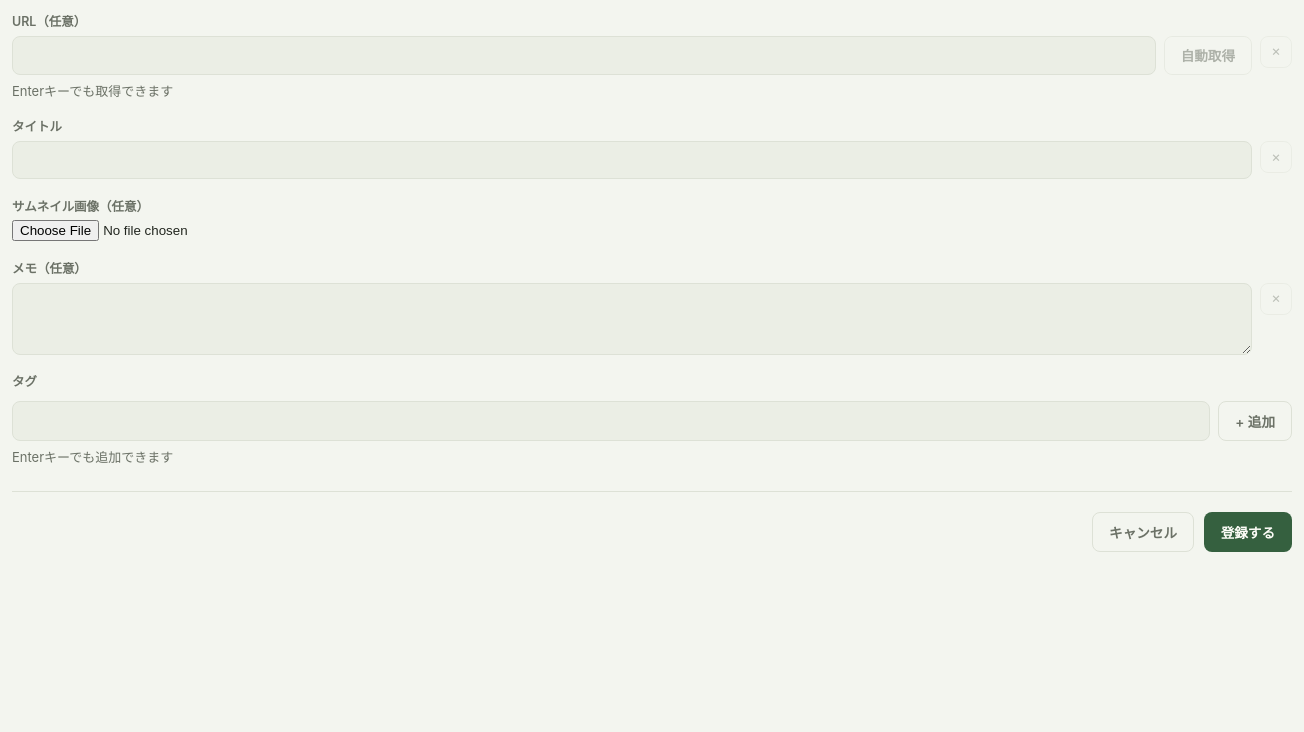
Scenario: RecipeRegisterForm › タイトル削除ボタンでタイトルだけ空にできる
Expected: the button named "タイトルを削除" is disabled, [1260,141,1292,173]
In the field labelled "タイトル": (632, 160) [12,141,1252,179], type "肉じゃが"
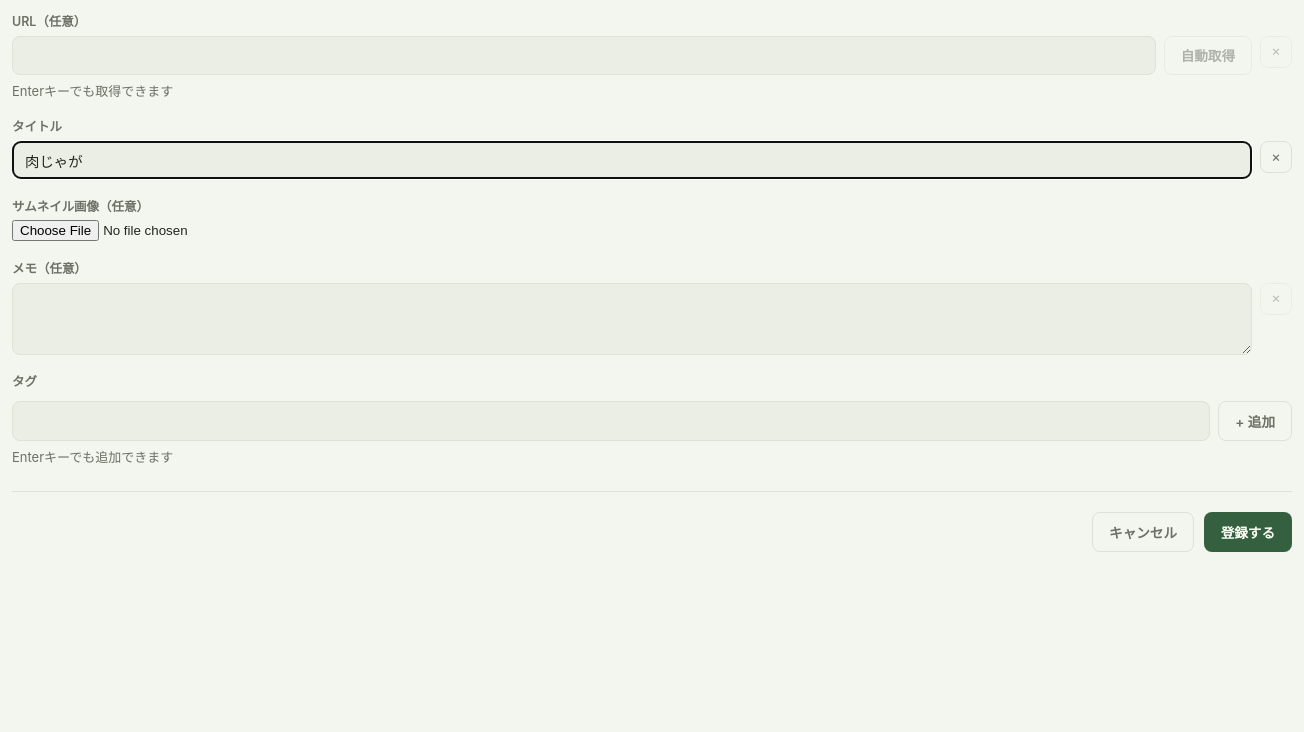
In the text box labelled "メモ（任意）": (632, 318) [12,282,1252,354], type "美味しい"
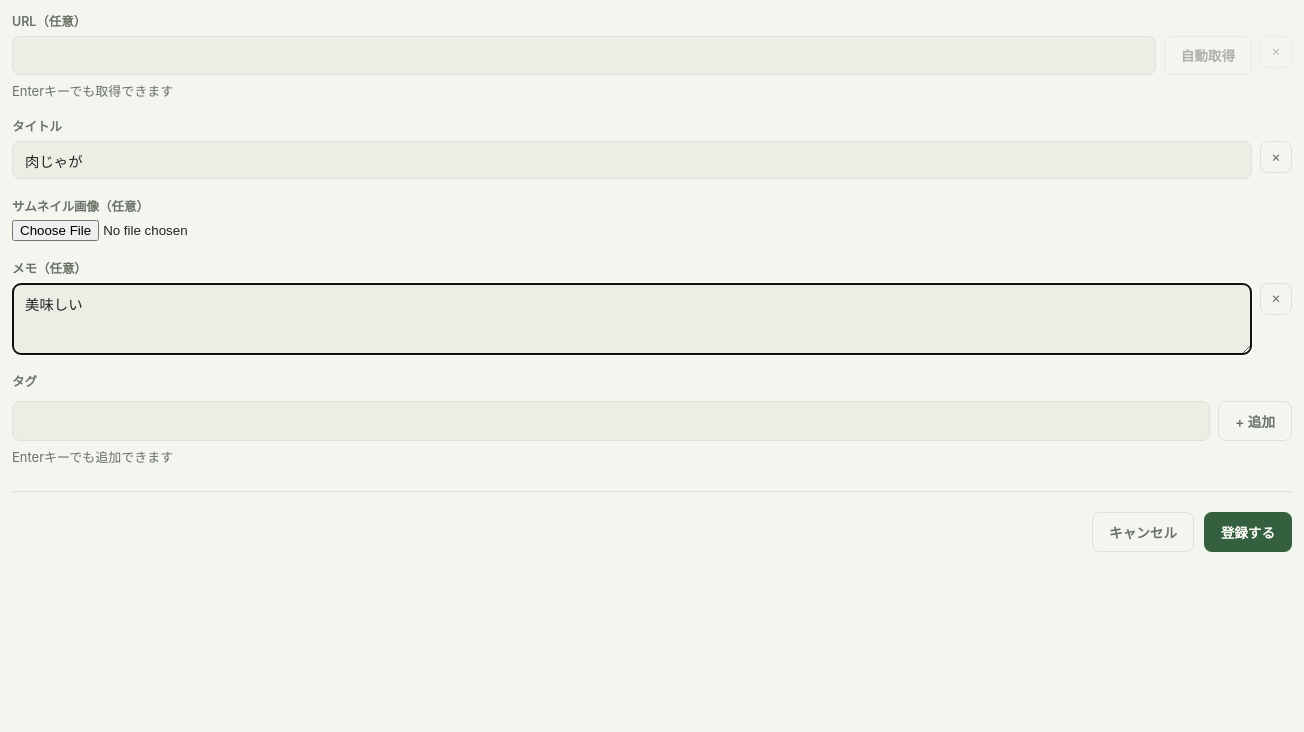
Click the button named "タイトルを削除": (1276, 157) [1260,141,1292,173]
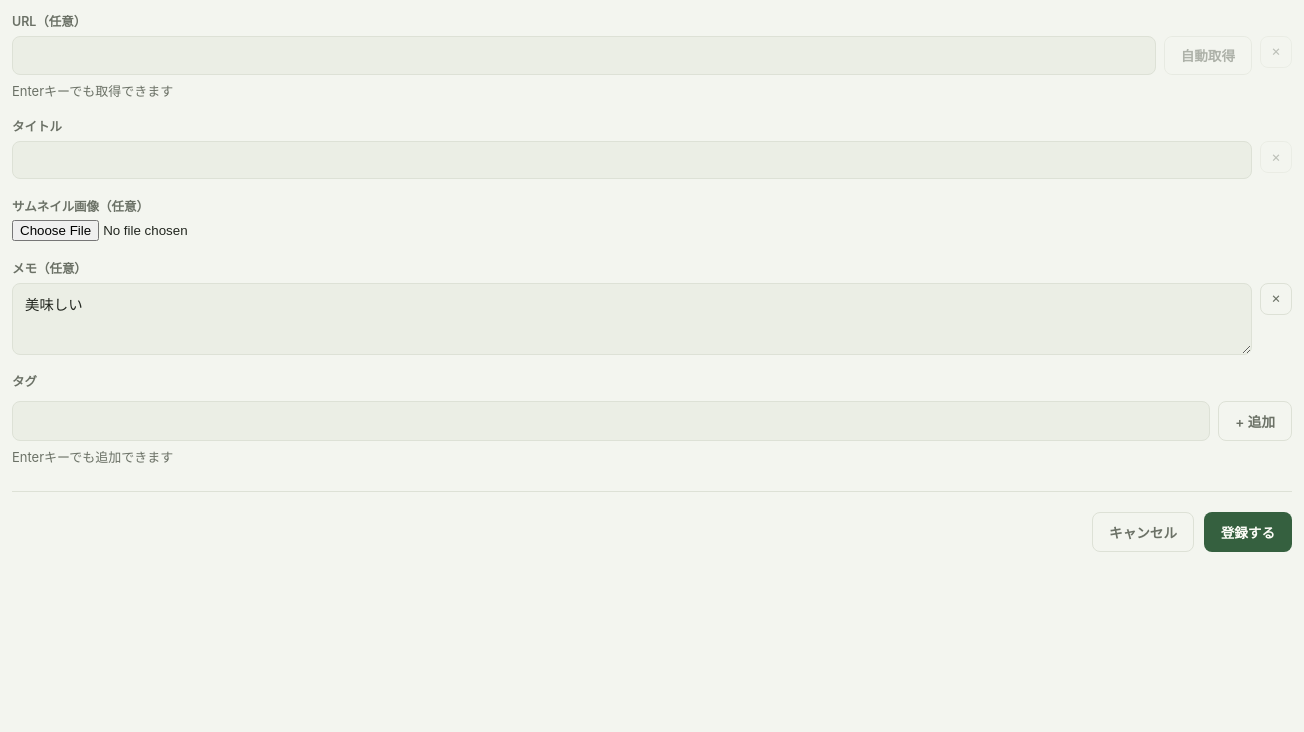
Expected: the field labelled "タイトル" is empty, [12,141,1252,179]
